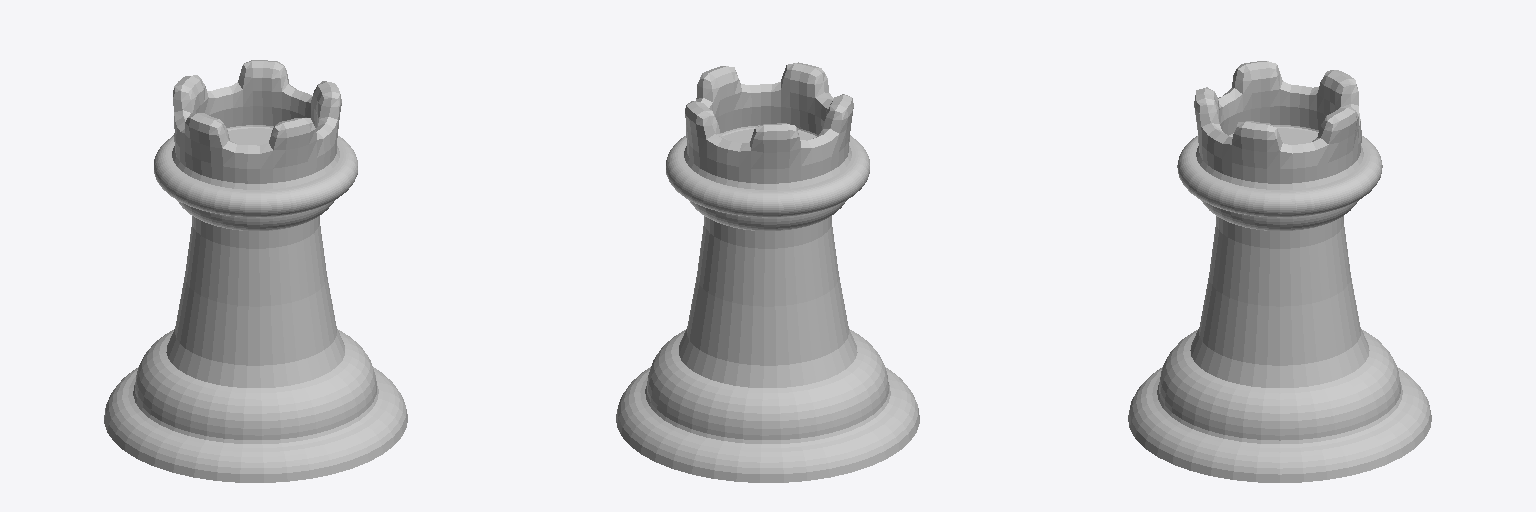
File: finalwall.obj
The picture shows the model from 3 angles: view 1: azimuth 30°, elevation 25°; view 2: azimuth 150°, elevation 25°; view 3: azimuth 270°, elevation 25°; orthographic projection.
Visible parts, largest first — view 1: black_rook1_Mesh.031; view 2: black_rook1_Mesh.031; view 3: black_rook1_Mesh.031.
Part boxes in pixels (left/top/right/bottom): black_rook1_Mesh.031: left=104, top=60, right=407, bottom=482; black_rook1_Mesh.031: left=616, top=62, right=919, bottom=482; black_rook1_Mesh.031: left=1128, top=61, right=1431, bottom=482.
Bounding box in the file's own units: 0.5792 × 0.6844 × 0.5792.